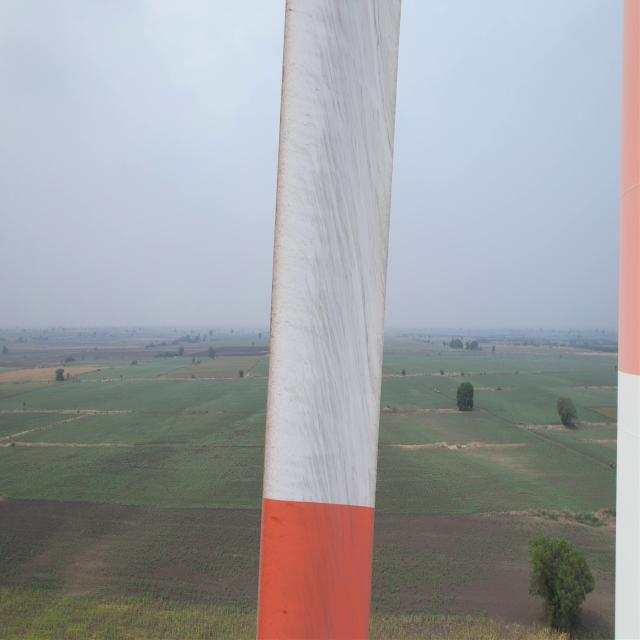Dirt: (278, 1, 405, 640)
